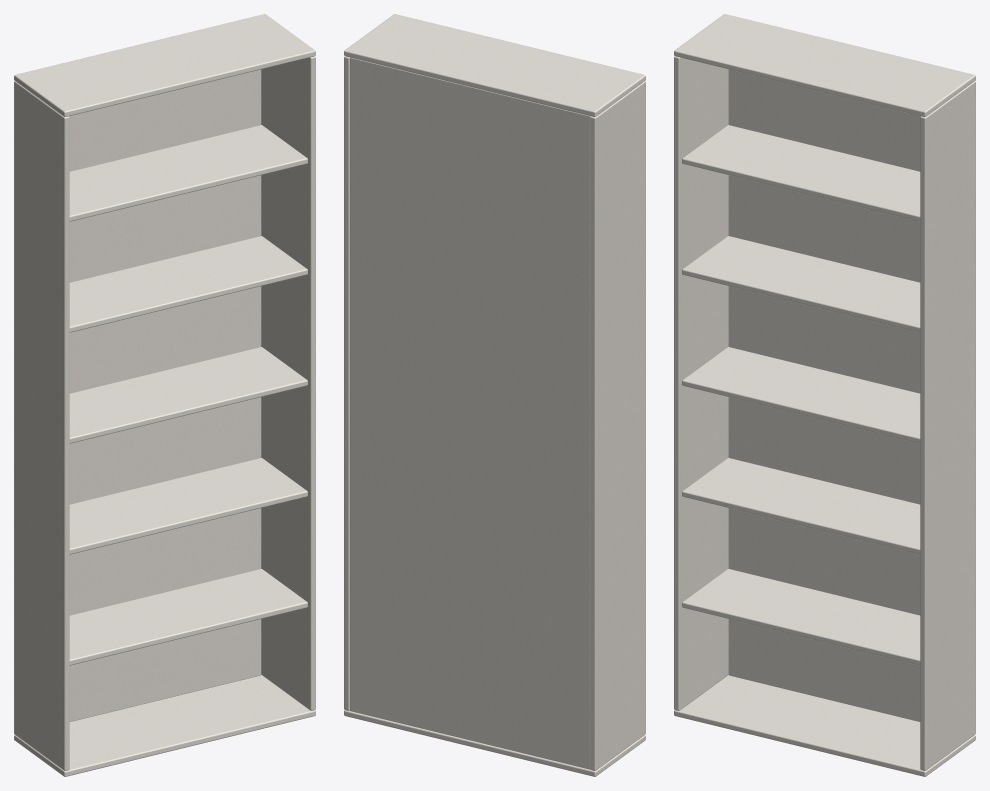
The model's file is billy.glb.
3 views of the same model, side by side, from view 1: azimuth 30°, elevation 25°; view 2: azimuth 150°, elevation 25°; view 3: azimuth 330°, elevation 25° (orthographic).
Visible parts, largest first — view 1: BILLY Bookcase; view 2: BILLY Bookcase; view 3: BILLY Bookcase.
Boxes of the visible parts, x1,y1,x2,y2 form: BILLY Bookcase: (14,14,315,776); BILLY Bookcase: (344,14,645,776); BILLY Bookcase: (674,14,975,776).
Size of the model in its own units: 0.8 by 2.02 by 0.28.
Materials: 1 (1 with a texture image).
